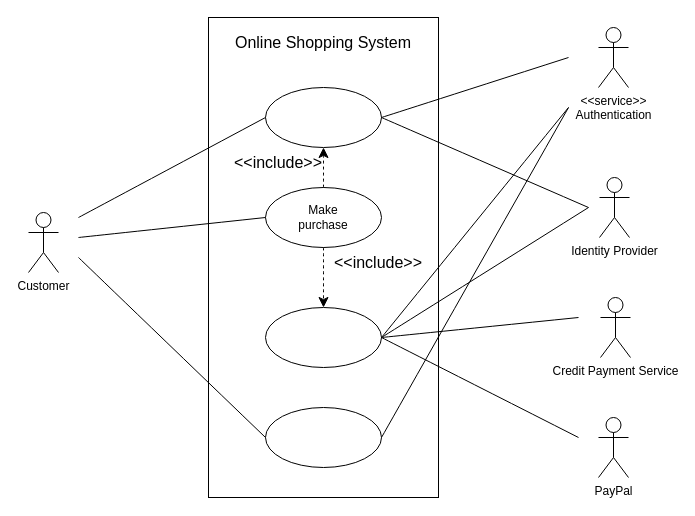
The diagram is 695 pixels wide and 516 high, and some of its shapes have lost their labels. The shapes that lost their labels are listed below. From the top down, each one's centre as x and y in pixels, then its label:
point (323, 117): View items
point (323, 337): Complete checkout
point (323, 437): Log in
